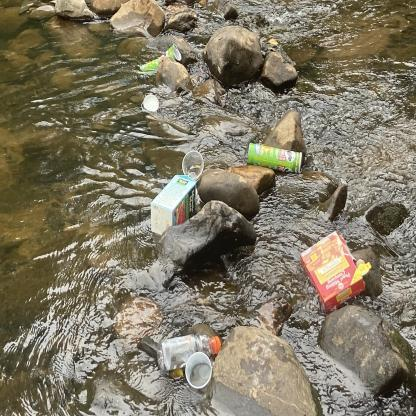trash: (298, 226, 370, 314), (152, 328, 225, 378), (147, 173, 202, 237), (242, 138, 306, 180), (136, 42, 186, 78), (181, 349, 217, 395), (179, 146, 209, 183), (140, 90, 162, 118)
